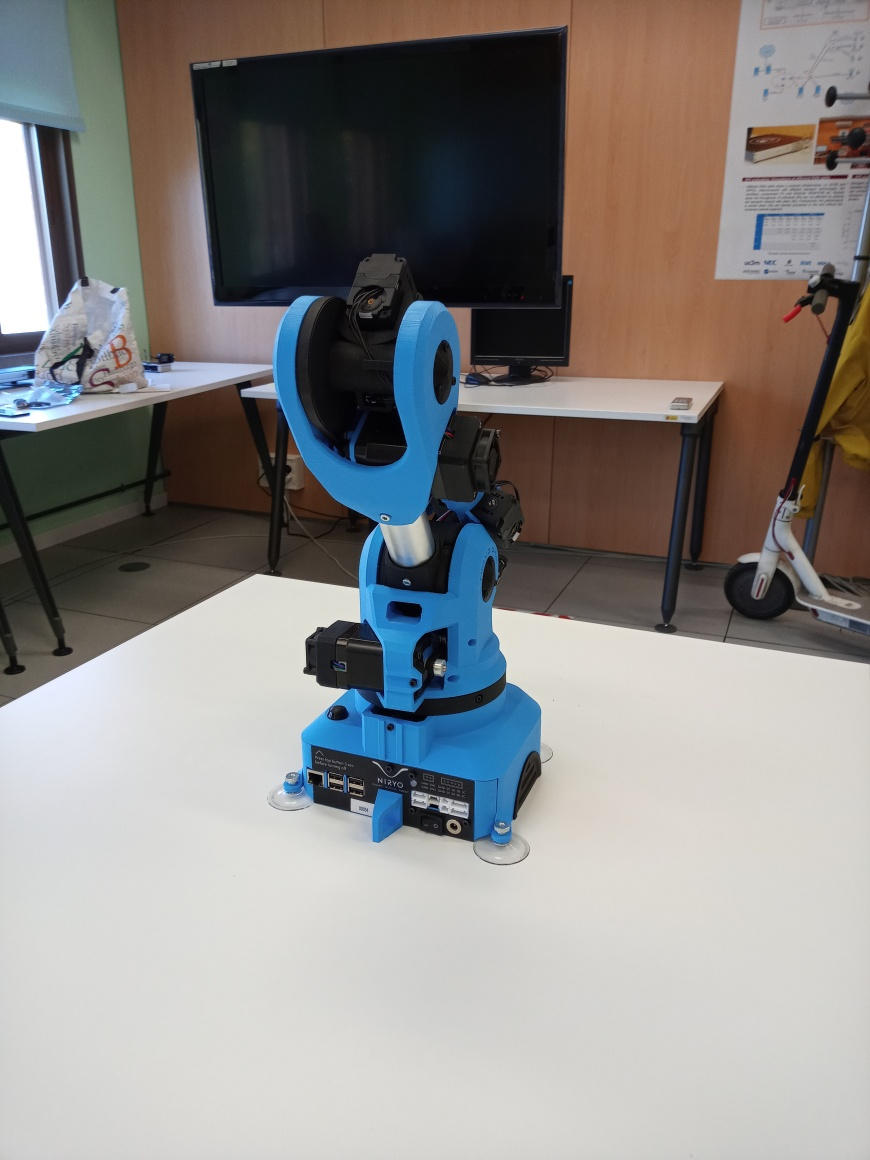robot: (270, 252, 560, 865)
